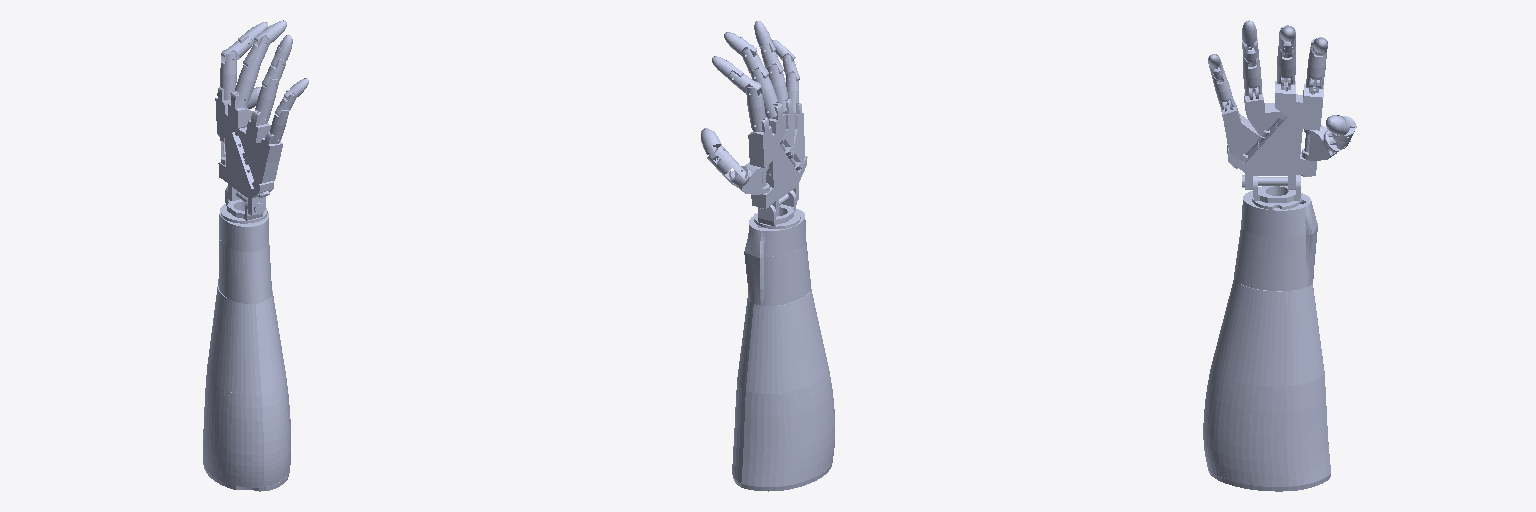
--- What the picture shows (computed from the rendered views, not written in the file) ---
The picture shows the robot from 3 angles, left to right: view 1: azimuth 30°, elevation 25°; view 2: azimuth 150°, elevation 25°; view 3: azimuth 270°, elevation 25°; orthographic projection.
Model smart_arm with 19 links and 18 joints (18 revolute), rooted at elbow_link, posed all joints at 0.
Links seen in each view (by area): view 1: elbow_link, wrist_link, wrist_lower_link, wrist_middle_link, middle_1_link, pointer_1_link, ring_1_link; view 2: elbow_link, wrist_link, wrist_upper_link, pointer_1_link, wrist_lower_link, middle_1_link, thumb_1_link; view 3: elbow_link, wrist_link, wrist_lower_link, wrist_middle_link, wrist_upper_link, pointer_1_link, middle_1_link, ring_1_link.
Link boxes in pixels (x1=…): elbow_link: x1=203, y1=186, x2=290, y2=491; wrist_link: x1=215, y1=87, x2=273, y2=215; wrist_lower_link: x1=244, y1=132, x2=282, y2=187; wrist_middle_link: x1=234, y1=110, x2=270, y2=158; middle_1_link: x1=234, y1=57, x2=261, y2=106; pointer_1_link: x1=220, y1=50, x2=236, y2=99; ring_1_link: x1=255, y1=75, x2=278, y2=123; elbow_link: x1=732, y1=190, x2=834, y2=491; wrist_link: x1=748, y1=103, x2=807, y2=216; wrist_upper_link: x1=729, y1=162, x2=769, y2=194; pointer_1_link: x1=746, y1=81, x2=765, y2=131; wrist_lower_link: x1=788, y1=103, x2=804, y2=170; middle_1_link: x1=750, y1=69, x2=778, y2=117; thumb_1_link: x1=707, y1=145, x2=745, y2=184; elbow_link: x1=1203, y1=175, x2=1330, y2=491; wrist_link: x1=1227, y1=77, x2=1323, y2=189; wrist_lower_link: x1=1221, y1=100, x2=1264, y2=162; wrist_middle_link: x1=1244, y1=87, x2=1286, y2=136; wrist_upper_link: x1=1302, y1=125, x2=1350, y2=160; pointer_1_link: x1=1306, y1=39, x2=1326, y2=88; middle_1_link: x1=1277, y1=46, x2=1295, y2=84; ring_1_link: x1=1243, y1=56, x2=1261, y2=95.
Size in the robot's own frame: 0.1043 by 0.1427 by 0.481 metres.
Meshes: 19 distinct files referenced, 19 mesh visuals loaded (19 binary STL).

robot.urdf — smart_arm:
<?xml version="1.0" ?>
<!-- =================================================================================== -->
<!-- |    This document was autogenerated by xacro from [local-path]/smart_ws/src/smartarm_ros/smart_arm_description/urdf/smart_arm.urdf.xacro | -->
<!-- |    EDITING THIS FILE BY HAND IS NOT RECOMMENDED                                 | -->
<!-- =================================================================================== -->
<robot name="smart_arm">
    <link name="elbow_link">
        <inertial>
            <origin rpy="0 0 0" xyz="-0.000205770640037656 0.000108385036079905 0.103139863094332" />
            <mass value="0.295493853268353" />
            <inertia ixx="0.000483065500673909" ixy="-3.31332778426896E-05" ixz="-7.20159423734281E-07" iyy="0.0003469525375019" iyz="-3.22980553305975E-06" izz="0.000501419614441105" />
        </inertial>
        <visual>
            <origin rpy="0 0 0" xyz="0 0 0" />
            <geometry>
                <mesh filename="package://smart_arm_description/meshes/elbow_link.STL" />
            </geometry>
            <material name="">
                <color rgba="0.792156862745098 0.819607843137255 0.933333333333333 1" />
            </material>
        </visual>
        <collision>
            <origin rpy="0 0 0" xyz="0 0 0" />
            <geometry>
                <mesh filename="package://smart_arm_description/meshes/elbow_link.STL" />
            </geometry>
        </collision>
    </link>
    <link name="wrist_link">
        <inertial>
            <origin rpy="0 0 0" xyz="-0.000107664352745035 -0.014691017881254 0.0475352652097448" />
            <mass value="0.0703349976668528" />
            <inertia ixx="8.33145956878074E-05" ixy="7.39496138280138E-08" ixz="3.04356429676113E-07" iyy="5.95941312686552E-05" iyz="-1.95191463116659E-05" izz="2.69797202551765E-05" />
        </inertial>
        <visual>
            <origin rpy="0 0 0" xyz="0 0 0" />
            <geometry>
                <mesh filename="package://smart_arm_description/meshes/wrist_link.STL" />
            </geometry>
            <material name="">
                <color rgba="0.792156862745098 0.819607843137255 0.933333333333333 1" />
            </material>
        </visual>
        <collision>
            <origin rpy="0 0 0" xyz="0 0 0" />
            <geometry>
                <mesh filename="package://smart_arm_description/meshes/wrist_link.STL" />
            </geometry>
        </collision>
    </link>
    <link name="wrist_lower_link">
        <inertial>
            <origin rpy="0 0 0" xyz="-0.0308791426702174 0.00349683553043886 0.0203486593271935" />
            <mass value="0.0179601480402659" />
            <inertia ixx="3.35618082767684E-06" ixy="2.00012150714684E-07" ixz="1.29580489766705E-06" iyy="4.56681598704689E-06" iyz="-3.93596882945118E-07" izz="2.21180778937816E-06" />
        </inertial>
        <visual>
            <origin rpy="0 0 0" xyz="0 0 0" />
            <geometry>
                <mesh filename="package://smart_arm_description/meshes/wrist_lower_link.STL" />
            </geometry>
            <material name="">
                <color rgba="0.792156862745098 0.819607843137255 0.933333333333333 1" />
            </material>
        </visual>
        <collision>
            <origin rpy="0 0 0" xyz="0 0 0" />
            <geometry>
                <mesh filename="package://smart_arm_description/meshes/wrist_lower_link.STL" />
            </geometry>
        </collision>
    </link>
    <link name="pinky_1_link">
        <inertial>
            <origin rpy="0 0 0" xyz="-0.00522866781159657 -0.0149787954896174 0.00244494110809049" />
            <mass value="0.00269063416432976" />
            <inertia ixx="1.20242598540253E-07" ixy="6.14041884687285E-12" ixz="5.8215008319749E-11" iyy="8.94283979714206E-08" iyz="7.05706982971785E-09" izz="1.37183208246673E-07" />
        </inertial>
        <visual>
            <origin rpy="0 0 0" xyz="0 0 0" />
            <geometry>
                <mesh filename="package://smart_arm_description/meshes/pinky_1_link.STL" />
            </geometry>
            <material name="">
                <color rgba="0.792156862745098 0.819607843137255 0.933333333333333 1" />
            </material>
        </visual>
        <collision>
            <origin rpy="0 0 0" xyz="0 0 0" />
            <geometry>
                <mesh filename="package://smart_arm_description/meshes/pinky_1_link.STL" />
            </geometry>
        </collision>
    </link>
    <link name="pinky_2_link">
        <inertial>
            <origin rpy="0 0 0" xyz="-0.00512598077996924 0.00901128431388447 -0.000581173891856732" />
            <mass value="0.00171948798725875" />
            <inertia ixx="4.38399098177655E-08" ixy="5.73443666856809E-10" ixz="-1.02208225680834E-10" iyy="3.88616206091108E-08" iyz="4.09208074266455E-09" izz="4.31403255685011E-08" />
        </inertial>
        <visual>
            <origin rpy="0 0 0" xyz="0 0 0" />
            <geometry>
                <mesh filename="package://smart_arm_description/meshes/pinky_2_link.STL" />
            </geometry>
            <material name="">
                <color rgba="0.792156862745098 0.819607843137255 0.933333333333333 1" />
            </material>
        </visual>
        <collision>
            <origin rpy="0 0 0" xyz="0 0 0" />
            <geometry>
                <mesh filename="package://smart_arm_description/meshes/pinky_2_link.STL" />
            </geometry>
        </collision>
    </link>
    <link name="pinky_3_link">
        <inertial>
            <origin rpy="0 0 0" xyz="-0.00433667543015367 0.0081019823699609 -0.00505664472792688" />
            <mass value="0.00142350343627245" />
            <inertia ixx="3.38966058052191E-08" ixy="-4.50552956352627E-12" ixz="1.68997250065103E-11" iyy="2.9028388995604E-08" iyz="4.53049886719614E-09" izz="2.81288327170812E-08" />
        </inertial>
        <visual>
            <origin rpy="0 0 0" xyz="0 0 0" />
            <geometry>
                <mesh filename="package://smart_arm_description/meshes/pinky_3_link.STL" />
            </geometry>
            <material name="">
                <color rgba="0.792156862745098 0.819607843137255 0.933333333333333 1" />
            </material>
        </visual>
        <collision>
            <origin rpy="0 0 0" xyz="0 0 0" />
            <geometry>
                <mesh filename="package://smart_arm_description/meshes/pinky_3_link.STL" />
            </geometry>
        </collision>
    </link>
    <link name="wrist_middle_link">
        <inertial>
            <origin rpy="0 0 0" xyz="-0.059351810470969 0.00297685937771368 0.0174911833138776" />
            <mass value="0.0133231625794088" />
            <inertia ixx="1.92896908777582E-06" ixy="7.95493573698368E-08" ixz="5.23952379047857E-07" iyy="2.50637427994164E-06" iyz="-1.97278566939604E-07" izz="1.29114139991389E-06" />
        </inertial>
        <visual>
            <origin rpy="0 0 0" xyz="0 0 0" />
            <geometry>
                <mesh filename="package://smart_arm_description/meshes/wrist_middle_link.STL" />
            </geometry>
            <material name="">
                <color rgba="0.792156862745098 0.819607843137255 0.933333333333333 1" />
            </material>
        </visual>
        <collision>
            <origin rpy="0 0 0" xyz="0 0 0" />
            <geometry>
                <mesh filename="package://smart_arm_description/meshes/wrist_middle_link.STL" />
            </geometry>
        </collision>
    </link>
    <link name="ring_1_link">
        <inertial>
            <origin rpy="0 0 0" xyz="-0.0062731487203958 0.0178677991712861 -0.00350735852997959" />
            <mass value="0.00464662723898721" />
            <inertia ixx="2.9890299993066E-07" ixy="-1.98178385884489E-11" ixz="-1.44064397803553E-10" iyy="2.23548899653077E-07" iyz="2.13065720147208E-08" izz="3.39770028839746E-07" />
        </inertial>
        <visual>
            <origin rpy="0 0 0" xyz="0 0 0" />
            <geometry>
                <mesh filename="package://smart_arm_description/meshes/ring_1_link.STL" />
            </geometry>
            <material name="">
                <color rgba="0.792156862745098 0.819607843137255 0.933333333333333 1" />
            </material>
        </visual>
        <collision>
            <origin rpy="0 0 0" xyz="0 0 0" />
            <geometry>
                <mesh filename="package://smart_arm_description/meshes/ring_1_link.STL" />
            </geometry>
        </collision>
    </link>
    <link name="ring_2_link">
        <inertial>
            <origin rpy="0 0 0" xyz="-0.00599442209155701 0.0109099257977444 -0.000450484446247124" />
            <mass value="0.00296941783525498" />
            <inertia ixx="1.09028461614364E-07" ixy="4.53930271304141E-12" ixz="-4.29160978497908E-12" iyy="9.46598294680744E-08" iyz="9.00687858749085E-09" izz="1.09127096165152E-07" />
        </inertial>
        <visual>
            <origin rpy="0 0 0" xyz="0 0 0" />
            <geometry>
                <mesh filename="package://smart_arm_description/meshes/ring_2_link.STL" />
            </geometry>
            <material name="">
                <color rgba="0.792156862745098 0.819607843137255 0.933333333333333 1" />
            </material>
        </visual>
        <collision>
            <origin rpy="0 0 0" xyz="0 0 0" />
            <geometry>
                <mesh filename="package://smart_arm_description/meshes/ring_2_link.STL" />
            </geometry>
        </collision>
    </link>
    <link name="ring_3_link">
        <inertial>
            <origin rpy="0 0 0" xyz="-0.00520292510737917 0.0114659419405466 -0.000387345885786594" />
            <mass value="0.0024583065139303" />
            <inertia ixx="8.42582776799548E-08" ixy="-3.12990012358554E-11" ixz="3.0662688306369E-11" iyy="6.18419461954836E-08" iyz="6.59258772398117E-09" izz="8.02378471172367E-08" />
        </inertial>
        <visual>
            <origin rpy="0 0 0" xyz="0 0 0" />
            <geometry>
                <mesh filename="package://smart_arm_description/meshes/ring_3_link.STL" />
            </geometry>
            <material name="">
                <color rgba="0.792156862745098 0.819607843137255 0.933333333333333 1" />
            </material>
        </visual>
        <collision>
            <origin rpy="0 0 0" xyz="0 0 0" />
            <geometry>
                <mesh filename="package://smart_arm_description/meshes/ring_3_link.STL" />
            </geometry>
        </collision>
    </link>
    <link name="wrist_upper_link">
        <inertial>
            <origin rpy="0 0 0" xyz="-0.0366550772980235 0.00764946692547766 -0.0140269197547968" />
            <mass value="0.0103243269131143" />
            <inertia ixx="7.48338998818573E-07" ixy="-4.20182846150398E-08" ixz="6.08546051037344E-08" iyy="1.06628115984118E-06" iyz="6.39209500929198E-08" izz="9.79175522091434E-07" />
        </inertial>
        <visual>
            <origin rpy="0 0 0" xyz="0 0 0" />
            <geometry>
                <mesh filename="package://smart_arm_description/meshes/wrist_upper_link.STL" />
            </geometry>
            <material name="">
                <color rgba="0.792156862745098 0.819607843137255 0.933333333333333 1" />
            </material>
        </visual>
        <collision>
            <origin rpy="0 0 0" xyz="0 0 0" />
            <geometry>
                <mesh filename="package://smart_arm_description/meshes/wrist_upper_link.STL" />
            </geometry>
        </collision>
    </link>
    <link name="thumb_1_link">
        <inertial>
            <origin rpy="0 0 0" xyz="-0.00733195290859857 0.0123357237864767 0.0124289912891914" />
            <mass value="0.00578742546735096" />
            <inertia ixx="2.9022059126798E-07" ixy="-9.85448053363409E-14" ixz="-4.41249917228209E-13" iyy="3.54248074807296E-07" iyz="-1.93352692370391E-08" izz="3.54050996721444E-07" />
        </inertial>
        <visual>
            <origin rpy="0 0 0" xyz="0 0 0" />
            <geometry>
                <mesh filename="package://smart_arm_description/meshes/thumb_1_link.STL" />
            </geometry>
            <material name="">
                <color rgba="0.792156862745098 0.819607843137255 0.933333333333333 1" />
            </material>
        </visual>
        <collision>
            <origin rpy="0 0 0" xyz="0 0 0" />
            <geometry>
                <mesh filename="package://smart_arm_description/meshes/thumb_1_link.STL" />
            </geometry>
        </collision>
    </link>
    <link name="thumb_2_link">
        <inertial>
            <origin rpy="0 0 0" xyz="-0.0064568457068869 0.0102775150349664 0.00846428836658635" />
            <mass value="0.00408607534767685" />
            <inertia ixx="1.95951404716398E-07" ixy="-7.73858676630385E-11" ixz="1.1896278633326E-10" iyy="1.85983967135428E-07" iyz="-8.26602224548752E-09" izz="1.61404176202361E-07" />
        </inertial>
        <visual>
            <origin rpy="0 0 0" xyz="0 0 0" />
            <geometry>
                <mesh filename="package://smart_arm_description/meshes/thumb_2_link.STL" />
            </geometry>
            <material name="">
                <color rgba="0.792156862745098 0.819607843137255 0.933333333333333 1" />
            </material>
        </visual>
        <collision>
            <origin rpy="0 0 0" xyz="0 0 0" />
            <geometry>
                <mesh filename="package://smart_arm_description/meshes/thumb_2_link.STL" />
            </geometry>
        </collision>
    </link>
    <link name="middle_1_link">
        <inertial>
            <origin rpy="0 0 0" xyz="-0.00703243450935939 0.0173092705097653 -0.00798548069738481" />
            <mass value="0.00545625911917495" />
            <inertia ixx="3.90612953769099E-07" ixy="1.77980873893174E-09" ixz="-1.58816562130274E-09" iyy="3.1304155537832E-07" iyz="5.91881896575937E-08" izz="4.23235427455386E-07" />
        </inertial>
        <visual>
            <origin rpy="0 0 0" xyz="0 0 0" />
            <geometry>
                <mesh filename="package://smart_arm_description/meshes/middle_1_link.STL" />
            </geometry>
            <material name="">
                <color rgba="0.792156862745098 0.819607843137255 0.933333333333333 1" />
            </material>
        </visual>
        <collision>
            <origin rpy="0 0 0" xyz="0 0 0" />
            <geometry>
                <mesh filename="package://smart_arm_description/meshes/middle_1_link.STL" />
            </geometry>
        </collision>
    </link>
    <link name="middle_2_link">
        <inertial>
            <origin rpy="0 0 0" xyz="-0.00632415038644278 0.0115147576834888 -0.000333232809120232" />
            <mass value="0.00348681254392789" />
            <inertia ixx="1.42495803409043E-07" ixy="6.42083738917761E-12" ixz="-5.66128771526002E-12" iyy="1.23428871201468E-07" iyz="1.15346629665482E-08" izz="1.42912538138573E-07" />
        </inertial>
        <visual>
            <origin rpy="0 0 0" xyz="0 0 0" />
            <geometry>
                <mesh filename="package://smart_arm_description/meshes/middle_2_link.STL" />
            </geometry>
            <material name="">
                <color rgba="0.792156862745098 0.819607843137255 0.933333333333333 1" />
            </material>
        </visual>
        <collision>
            <origin rpy="0 0 0" xyz="0 0 0" />
            <geometry>
                <mesh filename="package://smart_arm_description/meshes/middle_2_link.STL" />
            </geometry>
        </collision>
    </link>
    <link name="middle_3_link">
        <inertial>
            <origin rpy="0 0 0" xyz="-0.00548902061454014 0.0100923850151921 -0.00665149126059028" />
            <mass value="0.00288658168120279" />
            <inertia ixx="1.10117727071997E-07" ixy="-1.55534443640183E-11" ixz="5.61060631121711E-11" iyy="9.50345739683847E-08" iyz="1.46269472075257E-08" izz="9.06531551883444E-08" />
        </inertial>
        <visual>
            <origin rpy="0 0 0" xyz="0 0 0" />
            <geometry>
                <mesh filename="package://smart_arm_description/meshes/middle_3_link.STL" />
            </geometry>
            <material name="">
                <color rgba="0.792156862745098 0.819607843137255 0.933333333333333 1" />
            </material>
        </visual>
        <collision>
            <origin rpy="0 0 0" xyz="0 0 0" />
            <geometry>
                <mesh filename="package://smart_arm_description/meshes/middle_3_link.STL" />
            </geometry>
        </collision>
    </link>
    <link name="pointer_1_link">
        <inertial>
            <origin rpy="0 0 0" xyz="-0.00627312732951361 0.018037978572514 -0.00248821637768416" />
            <mass value="0.00464662673165044" />
            <inertia ixx="2.98902869571704E-07" ixy="-1.18788072621608E-11" ixz="-1.45887482548079E-10" iyy="2.21509520954101E-07" iyz="1.45876954431312E-08" izz="3.41809156243113E-07" />
        </inertial>
        <visual>
            <origin rpy="0 0 0" xyz="0 0 0" />
            <geometry>
                <mesh filename="package://smart_arm_description/meshes/pointer_1_link.STL" />
            </geometry>
            <material name="">
                <color rgba="0.792156862745098 0.819607843137255 0.933333333333333 1" />
            </material>
        </visual>
        <collision>
            <origin rpy="0 0 0" xyz="0 0 0" />
            <geometry>
                <mesh filename="package://smart_arm_description/meshes/pointer_1_link.STL" />
            </geometry>
        </collision>
    </link>
    <link name="pointer_2_link">
        <inertial>
            <origin rpy="0 0 0" xyz="-0.0059944646707981 0.00717574917314355 -0.0082394598299626" />
            <mass value="0.00296942129713921" />
            <inertia ixx="1.0902878077867E-07" ixy="4.47795663836142E-15" ixz="-6.6980448986755E-12" iyy="1.113024196947E-07" iyz="6.70365289571796E-09" izz="9.24850503494116E-08" />
        </inertial>
        <visual>
            <origin rpy="0 0 0" xyz="0 0 0" />
            <geometry>
                <mesh filename="package://smart_arm_description/meshes/pointer_2_link.STL" />
            </geometry>
            <material name="">
                <color rgba="0.792156862745098 0.819607843137255 0.933333333333333 1" />
            </material>
        </visual>
        <collision>
            <origin rpy="0 0 0" xyz="0 0 0" />
            <geometry>
                <mesh filename="package://smart_arm_description/meshes/pointer_2_link.STL" />
            </geometry>
        </collision>
    </link>
    <link name="pointer_3_link">
        <inertial>
            <origin rpy="0 0 0" xyz="-0.00520292179493784 0.0114659401260275 -0.000387354590101002" />
            <mass value="0.00245831065780538" />
            <inertia ixx="8.42585897088902E-08" ixy="-3.12989101832727E-11" ixz="3.05696947302691E-11" iyy="6.18419051405367E-08" iyz="6.59275537894209E-09" izz="8.02382050859085E-08" />
        </inertial>
        <visual>
            <origin rpy="0 0 0" xyz="0 0 0" />
            <geometry>
                <mesh filename="package://smart_arm_description/meshes/pointer_3_link.STL" />
            </geometry>
            <material name="">
                <color rgba="0.792156862745098 0.819607843137255 0.933333333333333 1" />
            </material>
        </visual>
        <collision>
            <origin rpy="0 0 0" xyz="0 0 0" />
            <geometry>
                <mesh filename="package://smart_arm_description/meshes/pointer_3_link.STL" />
            </geometry>
        </collision>
    </link>
    <joint name="wrist_joint" type="revolute">
        <origin rpy="0 0 0" xyz="0.00129 0.029395 0.2989" />
        <parent link="elbow_link" />
        <child link="wrist_link" />
        <axis xyz="0 -1 0" />
        <limit effort="5" lower="-1" upper="1" velocity="1" />
    </joint>
    <joint name="wrist_lower_joint" type="revolute">
        <origin rpy="0 0.88169 -1.5708" xyz="0 -0.063543 0.017875" />
        <parent link="wrist_link" />
        <child link="wrist_lower_link" />
        <axis xyz="-1 0 0" />
        <limit effort="5" lower="-1" upper="1" velocity="5" />
    </joint>
    <joint name="pinky_1_joint" type="revolute">
        <origin rpy="-1.6708 -0.61679 0.12536" xyz="-0.043751 0.0091577 0.05009" />
        <parent link="wrist_lower_link" />
        <child link="pinky_1_link" />
        <axis xyz="-1 0 0" />
        <limit effort="5" lower="-1" upper="1" velocity="2" />
    </joint>
    <joint name="pinky_2_joint" type="revolute">
        <origin rpy="3.026 0.13765 -0.015931" xyz="-0.00023197 -0.029503 0.0045349" />
        <parent link="pinky_1_link" />
        <child link="pinky_2_link" />
        <axis xyz="-0.99042 0 0.13812" />
        <limit effort="5" lower="-1" upper="1" velocity="3" />
    </joint>
    <joint name="pinky_3_joint" type="revolute">
        <origin rpy="-0.24361 0.13856 0" xyz="-0.0011308 0.018906 -0.0033205" />
        <parent link="pinky_2_link" />
        <child link="pinky_3_link" />
        <axis xyz="-1 0 0" />
        <limit effort="5" lower="-1" upper="1" velocity="2" />
    </joint>
    <joint name="wrist_middle_joint" type="revolute">
        <origin rpy="0 0.88169 -1.5708" xyz="0 -0.063543 0.017875" />
        <parent link="wrist_link" />
        <child link="wrist_middle_link" />
        <axis xyz="-1 0 0" />
        <limit effort="5" lower="-1" upper="1" velocity="2" />
    </joint>
    <joint name="ring_1_joint" type="revolute">
        <origin rpy="1.3238 -0.78078 0.17561" xyz="-0.069801 0.0076347 0.041426" />
        <parent link="wrist_middle_link" />
        <child link="ring_1_link" />
        <axis xyz="-1 0 0" />
        <limit effort="5" lower="-1" upper="1" velocity="2" />
    </joint>
    <joint name="ring_2_joint" type="revolute">
        <origin rpy="-0.14653 0 0" xyz="-0.00027831 0.035204 -0.0065715" />
        <parent link="ring_1_link" />
        <child link="ring_2_link" />
        <axis xyz="-1 0 0" />
        <limit effort="5" lower="-1" upper="1" velocity="2" />
    </joint>
    <joint name="ring_3_joint" type="revolute">
        <origin rpy="-0.143278724594159 0 0" xyz="-0.000793430469754296 0.0229811955997807 -0.00184137348495991" />
        <parent link="ring_2_link" />
        <child link="ring_3_link" />
        <axis xyz="-1 0 0" />
        <limit effort="5" lower="-1" upper="1" velocity="2" />
    </joint>
    <joint name="wrist_upper_joint" type="revolute">
        <origin rpy="0 1.48772480012052 -1.5707963267949" xyz="0 0.00467160843217863 0.00716947951775644" />
        <parent link="wrist_link" />
        <child link="wrist_upper_link" />
        <axis xyz="-1 0 0" />
        <limit effort="5" lower="-1" upper="1" velocity="3" />
    </joint>
    <joint name="thumb_1_joint" type="revolute">
        <origin rpy="-0.75622 0.31508 0.77256" xyz="-0.041192 0.017697 -0.032051" />
        <parent link="wrist_upper_link" />
        <child link="thumb_1_link" />
        <axis xyz="-1 0 0" />
        <limit effort="5" lower="-1" upper="1" velocity="4" />
    </joint>
    <joint name="thumb_2_joint" type="revolute">
        <origin rpy="0.640757193595075 0 0" xyz="-0.000865682899112985 0.0214109109835155 0.0182563649065549" />
        <parent link="thumb_1_link" />
        <child link="thumb_2_link" />
        <axis xyz="-1 0 0" />
        <limit effort="5" lower="-1" upper="1" velocity="4" />
    </joint>
    <joint name="middle_1_joint" type="revolute">
        <origin rpy="1.5707963267949 0 -1.5707963267949" xyz="0.000525788242336553 -0.0208949853387586 0.107469880482186" />
        <parent link="wrist_link" />
        <child link="middle_1_link" />
        <axis xyz="-0.999716298839136 -0.0238185187486232 0" />
        <limit effort="5" lower="-1" upper="1" velocity="5" />
    </joint>
    <joint name="middle_2_joint" type="revolute">
        <origin rpy="-0.3814 0 0.023821" xyz="-0.0011154 0.03449 -0.015386" />
        <parent link="middle_1_link" />
        <child link="middle_2_link" />
        <axis xyz="-1 0 0" />
        <limit effort="5" lower="-1" upper="1" velocity="4" />
    </joint>
    <joint name="middle_3_joint" type="revolute">
        <origin rpy="-0.13093 0 0" xyz="-0.00083707 0.024267 -0.0016433" />
        <parent link="middle_2_link" />
        <child link="middle_3_link" />
        <axis xyz="-1 0 0" />
        <limit effort="4" lower="-1" upper="1" velocity="5" />
    </joint>
    <joint name="pointer_1_joint" type="revolute">
        <origin rpy="1.5707963267949 -0.0968623019535048 -1.5707963267949" xyz="0.000525021796397782 0.00639325128397639 0.103423200281556" />
        <parent link="wrist_link" />
        <child link="pointer_1_link" />
        <axis xyz="-1 0 0" />
        <limit effort="5" lower="-1" upper="1" velocity="2" />
    </joint>
    <joint name="pointer_2_joint" type="revolute">
        <origin rpy="-0.089775 0 0" xyz="-0.00027831 0.03552 -0.0045641" />
        <parent link="pointer_1_link" />
        <child link="pointer_2_link" />
        <axis xyz="-1 0 0" />
        <limit effort="5" lower="-1" upper="1" velocity="3" />
    </joint>
    <joint name="pointer_3_joint" type="revolute">
        <origin rpy="-0.95742 0 0" xyz="-0.00079343 0.014451 -0.017972" />
        <parent link="pointer_2_link" />
        <child link="pointer_3_link" />
        <axis xyz="-1 0 0" />
        <limit effort="5" lower="-1" upper="1" velocity="2" />
    </joint>
    <gazebo>
        <plugin filename="libgazebo_ros_control.so" name="gazebo_ros_control">
            <robotNamespace>/</robotNamespace>
            <robotSimType>gazebo_ros_control/DefaultRobotHWSim</robotSimType>
            <legacyModeNS>true</legacyModeNS>
        </plugin>
    </gazebo>
    <transmission name="wrist_joint_transmission">
        <type>transmission_interface/SimpleTransmission</type>
        <joint name="wrist_joint">
            <hardwareInterface>hardware_interface/PositionJointInterface</hardwareInterface>
        </joint>
        <actuator name="wrist_joint-actuator">
            <hardwareInterface>hardware_interface/PositionJointInterface</hardwareInterface>
            <mechanicalReduction>1</mechanicalReduction>
        </actuator>
    </transmission>
    <transmission name="wrist_lower_joint_transmission">
        <type>transmission_interface/SimpleTransmission</type>
        <joint name="wrist_lower_joint">
            <hardwareInterface>hardware_interface/PositionJointInterface</hardwareInterface>
        </joint>
        <actuator name="wrist_lower_joint-actuator">
            <hardwareInterface>hardware_interface/PositionJointInterface</hardwareInterface>
            <mechanicalReduction>1</mechanicalReduction>
        </actuator>
    </transmission>
    <transmission name="wrist_middle_joint_transmission">
        <type>transmission_interface/SimpleTransmission</type>
        <joint name="wrist_middle_joint">
            <hardwareInterface>hardware_interface/PositionJointInterface</hardwareInterface>
        </joint>
        <actuator name="wrist_middle_joint-actuator">
            <hardwareInterface>hardware_interface/PositionJointInterface</hardwareInterface>
            <mechanicalReduction>1</mechanicalReduction>
        </actuator>
    </transmission>
    <transmission name="wrist_upper_joint_transmission">
        <type>transmission_interface/SimpleTransmission</type>
        <joint name="wrist_upper_joint">
            <hardwareInterface>hardware_interface/PositionJointInterface</hardwareInterface>
        </joint>
        <actuator name="wrist_upper_joint-actuator">
            <hardwareInterface>hardware_interface/PositionJointInterface</hardwareInterface>
            <mechanicalReduction>1</mechanicalReduction>
        </actuator>
    </transmission>
    <transmission name="pinky_1_joint_transmission">
        <type>transmission_interface/SimpleTransmission</type>
        <joint name="pinky_1_joint">
            <hardwareInterface>hardware_interface/PositionJointInterface</hardwareInterface>
        </joint>
        <actuator name="pinky_1_joint-actuator">
            <hardwareInterface>hardware_interface/PositionJointInterface</hardwareInterface>
            <mechanicalReduction>1</mechanicalReduction>
        </actuator>
    </transmission>
    <transmission name="pinky_2_joint_transmission">
        <type>transmission_interface/SimpleTransmission</type>
        <joint name="pinky_2_joint">
            <hardwareInterface>hardware_interface/PositionJointInterface</hardwareInterface>
        </joint>
        <actuator name="pinky_2_joint-actuator">
            <hardwareInterface>hardware_interface/PositionJointInterface</hardwareInterface>
            <mechanicalReduction>1</mechanicalReduction>
        </actuator>
    </transmission>
    <transmission name="pinky_3_joint_transmission">
        <type>transmission_interface/SimpleTransmission</type>
        <joint name="pinky_3_joint">
            <hardwareInterface>hardware_interface/PositionJointInterface</hardwareInterface>
        </joint>
        <actuator name="pinky_3_joint-actuator">
            <hardwareInterface>hardware_interface/PositionJointInterface</hardwareInterface>
            <mechanicalReduction>1</mechanicalReduction>
        </actuator>
    </transmission>
    <transmission name="ring_1_joint_transmission">
        <type>transmission_interface/SimpleTransmission</type>
        <joint name="ring_1_joint">
            <hardwareInterface>hardware_interface/PositionJointInterface</hardwareInterface>
        </joint>
        <actuator name="ring_1_joint-actuator">
            <hardwareInterface>hardware_interface/PositionJointInterface</hardwareInterface>
            <mechanicalReduction>1</mechanicalReduction>
        </actuator>
    </transmission>
    <transmission name="ring_2_joint_transmission">
        <type>transmission_interface/SimpleTransmission</type>
        <joint name="ring_2_joint">
            <hardwareInterface>hardware_interface/PositionJointInterface</hardwareInterface>
        </joint>
        <actuator name="ring_2_joint-actuator">
            <hardwareInterface>hardware_interface/PositionJointInterface</hardwareInterface>
            <mechanicalReduction>1</mechanicalReduction>
        </actuator>
    </transmission>
    <transmission name="ring_3_joint_transmission">
        <type>transmission_interface/SimpleTransmission</type>
        <joint name="ring_3_joint">
            <hardwareInterface>hardware_interface/PositionJointInterface</hardwareInterface>
        </joint>
        <actuator name="ring_3_joint-actuator">
            <hardwareInterface>hardware_interface/PositionJointInterface</hardwareInterface>
            <mechanicalReduction>1</mechanicalReduction>
        </actuator>
    </transmission>
    <transmission name="middle_1_joint_transmission">
        <type>transmission_interface/SimpleTransmission</type>
        <joint name="middle_1_joint">
            <hardwareInterface>hardware_interface/PositionJointInterface</hardwareInterface>
        </joint>
        <actuator name="middle_1_joint-actuator">
            <hardwareInterface>hardware_interface/PositionJointInterface</hardwareInterface>
            <mechanicalReduction>1</mechanicalReduction>
        </actuator>
    </transmission>
    <transmission name="middle_2_joint_transmission">
        <type>transmission_interface/SimpleTransmission</type>
        <joint name="middle_2_joint">
            <hardwareInterface>hardware_interface/PositionJointInterface</hardwareInterface>
        </joint>
        <actuator name="middle_2_joint-actuator">
            <hardwareInterface>hardware_interface/PositionJointInterface</hardwareInterface>
            <mechanicalReduction>1</mechanicalReduction>
        </actuator>
    </transmission>
    <transmission name="middle_3_joint_transmission">
        <type>transmission_interface/SimpleTransmission</type>
        <joint name="middle_3_joint">
            <hardwareInterface>hardware_interface/PositionJointInterface</hardwareInterface>
        </joint>
        <actuator name="middle_3_joint-actuator">
            <hardwareInterface>hardware_interface/PositionJointInterface</hardwareInterface>
            <mechanicalReduction>1</mechanicalReduction>
        </actuator>
    </transmission>
    <transmission name="pointer_1_joint_transmission">
        <type>transmission_interface/SimpleTransmission</type>
        <joint name="pointer_1_joint">
            <hardwareInterface>hardware_interface/PositionJointInterface</hardwareInterface>
        </joint>
        <actuator name="pointer_1_joint-actuator">
            <hardwareInterface>hardware_interface/PositionJointInterface</hardwareInterface>
            <mechanicalReduction>1</mechanicalReduction>
        </actuator>
    </transmission>
    <transmission name="pointer_2_joint_transmission">
        <type>transmission_interface/SimpleTransmission</type>
        <joint name="pointer_2_joint">
            <hardwareInterface>hardware_interface/PositionJointInterface</hardwareInterface>
        </joint>
        <actuator name="pointer_2_joint-actuator">
            <hardwareInterface>hardware_interface/PositionJointInterface</hardwareInterface>
            <mechanicalReduction>1</mechanicalReduction>
        </actuator>
    </transmission>
    <transmission name="pointer_3_joint_transmission">
        <type>transmission_interface/SimpleTransmission</type>
        <joint name="pointer_3_joint">
            <hardwareInterface>hardware_interface/PositionJointInterface</hardwareInterface>
        </joint>
        <actuator name="pointer_3_joint-actuator">
            <hardwareInterface>hardware_interface/PositionJointInterface</hardwareInterface>
            <mechanicalReduction>1</mechanicalReduction>
        </actuator>
    </transmission>
    <transmission name="thumb_1_joint_transmission">
        <type>transmission_interface/SimpleTransmission</type>
        <joint name="thumb_1_joint">
            <hardwareInterface>hardware_interface/PositionJointInterface</hardwareInterface>
        </joint>
        <actuator name="thumb_1_joint-actuator">
            <hardwareInterface>hardware_interface/PositionJointInterface</hardwareInterface>
            <mechanicalReduction>1</mechanicalReduction>
        </actuator>
    </transmission>
    <transmission name="thumb_2_joint_transmission">
        <type>transmission_interface/SimpleTransmission</type>
        <joint name="thumb_2_joint">
            <hardwareInterface>hardware_interface/PositionJointInterface</hardwareInterface>
        </joint>
        <actuator name="thumb_2_joint-actuator">
            <hardwareInterface>hardware_interface/PositionJointInterface</hardwareInterface>
            <mechanicalReduction>1</mechanicalReduction>
        </actuator>
    </transmission>
</robot>
